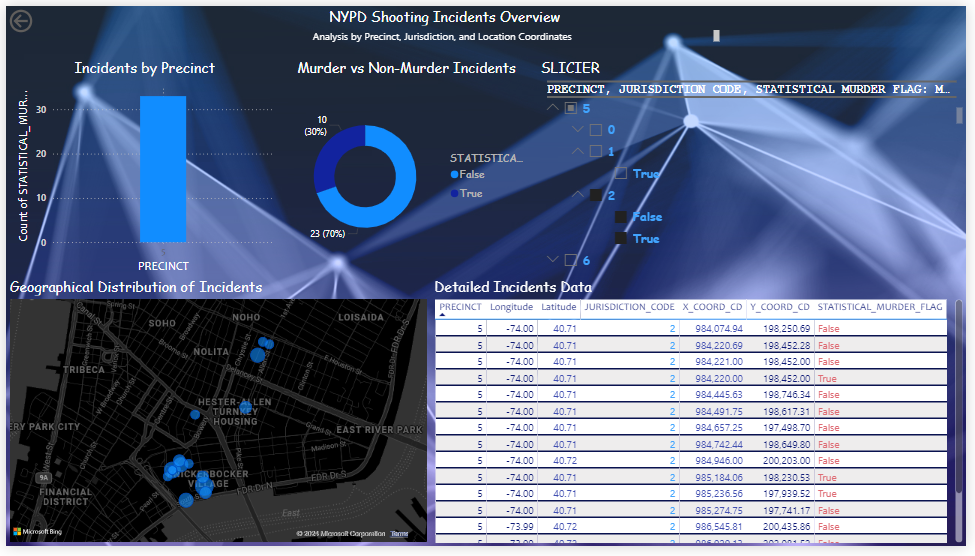

The dashboard page shown, as its layout file describes it:
{"tool":"powerbi","page":{"name":"NYPD Shooting Incidents Overview","canvas":[1280,720],"ordinal":0},"visuals":[{"type":"columnChart","title":"Incidents by Precinct","fields":{"Category":["NYPD_Shooting_Incident_Data__Historic_.PRECINCT"],"Y":["CountNonNull(NYPD_Shooting_Incident_Data__Historic_.STATISTICAL_MURDER_FLAG)"]},"box":[10,68,350,292],"z":0},{"type":"donutChart","title":"Murder vs Non-Murder Incidents","fields":{"Category":["NYPD_Shooting_Incident_Data__Historic_.STATISTICAL_MURDER_FLAG"],"Y":["CountNonNull(NYPD_Shooting_Incident_Data__Historic_.STATISTICAL_MURDER_FLAG)"]},"box":[360,68,348,292],"z":1000},{"type":"map","title":"Geographical Distribution of Incidents","fields":{"X":["NYPD_Shooting_Incident_Data__Historic_.Longitude"],"Y":["NYPD_Shooting_Incident_Data__Historic_.Latitude"],"Size":["CountNonNull(NYPD_Shooting_Incident_Data__Historic_.STATISTICAL_MURDER_FLAG)"]},"box":[0,360,566,360],"z":2000},{"type":"tableEx","title":"Detailed Incidents Data","fields":{"Values":["NYPD_Shooting_Incident_Data__Historic_.PRECINCT","NYPD_Shooting_Incident_Data__Historic_.Longitude","NYPD_Shooting_Incident_Data__Historic_.Latitude","NYPD_Shooting_Incident_Data__Historic_.JURISDICTION_CODE","NYPD_Shooting_Incident_Data__Historic_.X_COORD_CD","NYPD_Shooting_Incident_Data__Historic_.Y_COORD_CD","NYPD_Shooting_Incident_Data__Historic_.STATISTICAL_MURDER_FLAG"]},"box":[566,360,714,360],"z":3000},{"type":"slicer","title":"SLICIER","fields":{"Values":["NYPD_Shooting_Incident_Data__Historic_.PRECINCT","NYPD_Shooting_Incident_Data__Historic_.JURISDICTION_CODE","NYPD_Shooting_Incident_Data__Historic_.STATISTICAL_MURDER_FLAG"]},"box":[708,68,572,292],"z":4000},{"type":"actionButton","box":[0,0,100,40],"z":5000},{"type":"textbox","title":"NYPD Shooting Incidents Overview","box":[214,0,742,52],"z":6000}]}

Visuals, with their boxes in screenshot pixels (x1, y1, x2, y2), scaled from the page's 1280x720 canvas onto the 975x556 screenshot:
"Incidents by Precinct" columnChart: <box>8,53,274,278</box>
"Murder vs Non-Murder Incidents" donutChart: <box>274,53,539,278</box>
"Geographical Distribution of Incidents" map: <box>0,278,431,555</box>
"Detailed Incidents Data" tableEx: <box>431,278,974,555</box>
"SLICIER" slicer: <box>539,53,974,278</box>
actionButton: <box>0,0,76,31</box>
"NYPD Shooting Incidents Overview" textbox: <box>163,0,728,40</box>
